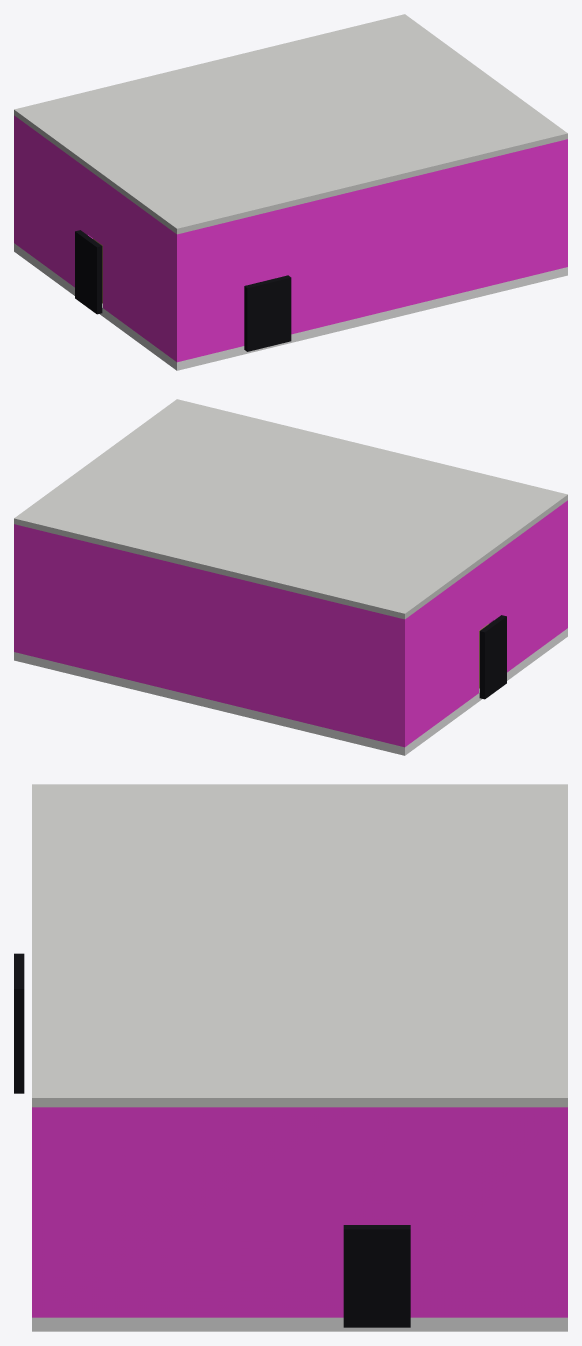
File: rdwe_ames_room.glb
3 views of the same model, one above another, from view 1: azimuth 30°, elevation 25°; view 2: azimuth 150°, elevation 25°; view 3: azimuth 270°, elevation 25° (orthographic). The views are drawn at different scales.
Parts seen in each view (by area): view 1: Room_Ceiling, Room_Wall_S_3, Room_Wall_S_1, Room_Wall_W_3, Room_Wall_W_1, Room_Floor, Beyond_word, Room_Wall_S_2, Beyond_grid, Room_Wall_W_2; view 2: Room_Ceiling, Room_Wall_N_1, Room_Wall_W_1, Room_Wall_W_3, Room_Floor, Beyond_grid, Room_Wall_W_2; view 3: Room_Ceiling, Room_Wall_E_3, Room_Wall_E_1, Room_Floor, Beyond_small, Room_Wall_E_2, Room_Wall_N_1, Room_Wall_S_3, Beyond_word.
Boxes of the visible parts, x1,y1,x2,y2 form: Room_Ceiling: (14, 14, 567, 234); Room_Wall_S_3: (279, 139, 567, 334); Room_Wall_S_1: (174, 217, 247, 362); Room_Wall_W_3: (103, 180, 173, 359); Room_Wall_W_1: (17, 117, 92, 287); Room_Floor: (14, 243, 567, 370); Beyond_word: (244, 275, 291, 351); Room_Wall_S_2: (248, 209, 279, 284); Beyond_grid: (75, 230, 102, 314); Room_Wall_W_2: (88, 169, 102, 245); Room_Ceiling: (14, 399, 567, 619); Room_Wall_N_1: (14, 524, 407, 747); Room_Wall_W_1: (408, 565, 478, 744); Room_Wall_W_3: (489, 502, 564, 672); Room_Floor: (14, 628, 567, 755); Beyond_grid: (479, 615, 506, 699); Room_Wall_W_2: (479, 554, 493, 630); Room_Ceiling: (32, 784, 567, 1107); Room_Wall_E_3: (42, 1107, 355, 1317); Room_Wall_E_1: (399, 1107, 557, 1317); Room_Floor: (32, 1317, 567, 1331); Beyond_small: (343, 1225, 410, 1327); Room_Wall_E_2: (355, 1107, 398, 1224); Room_Wall_N_1: (557, 1107, 567, 1317); Room_Wall_S_3: (32, 1107, 42, 1317); Beyond_word: (14, 953, 24, 1093).
Bounding box in the file's own units: 15.1 × 5 × 10.75.
